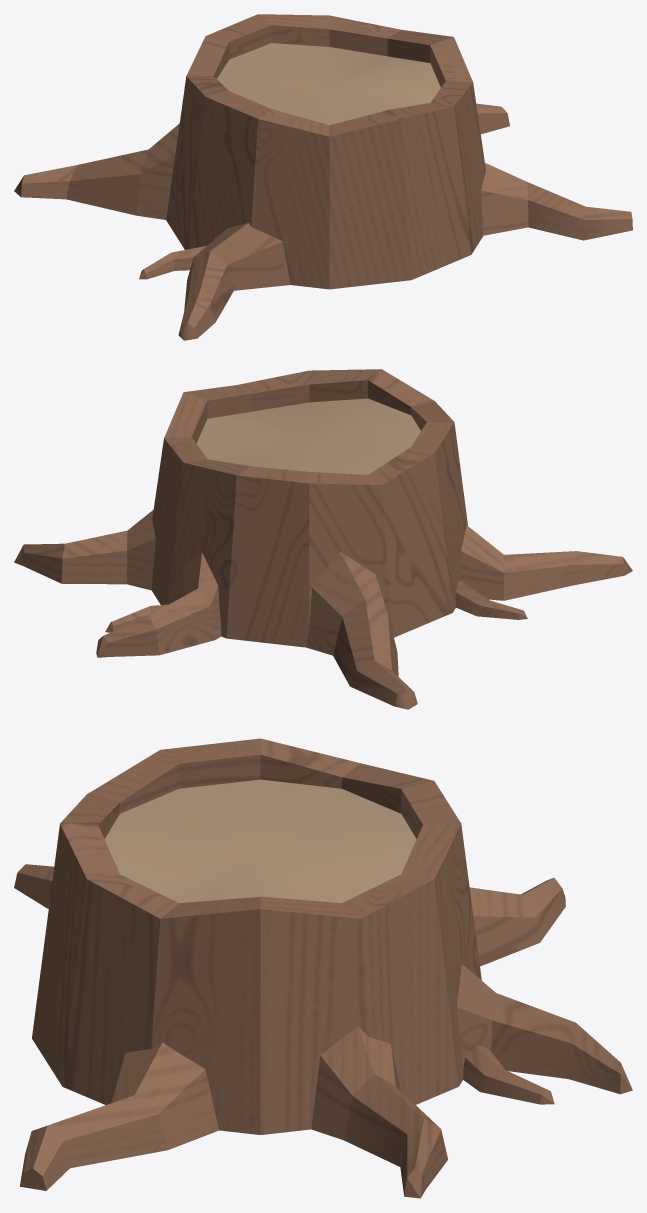
File: Stump.fbx
3 renders of one model, top to bottom at view 1: azimuth 30°, elevation 25°; view 2: azimuth 150°, elevation 25°; view 3: azimuth 270°, elevation 25°, orthographic. The views are drawn at different scales.
Parts seen in each view (by area): view 1: Stump; view 2: Stump; view 3: Stump.
Part boxes in pixels (box(x1,y1,x2,y2)): Stump: box(14, 14, 632, 340); Stump: box(14, 369, 632, 709); Stump: box(14, 738, 632, 1198).
Size of the model in its own units: 212 by 66.65 by 174.
